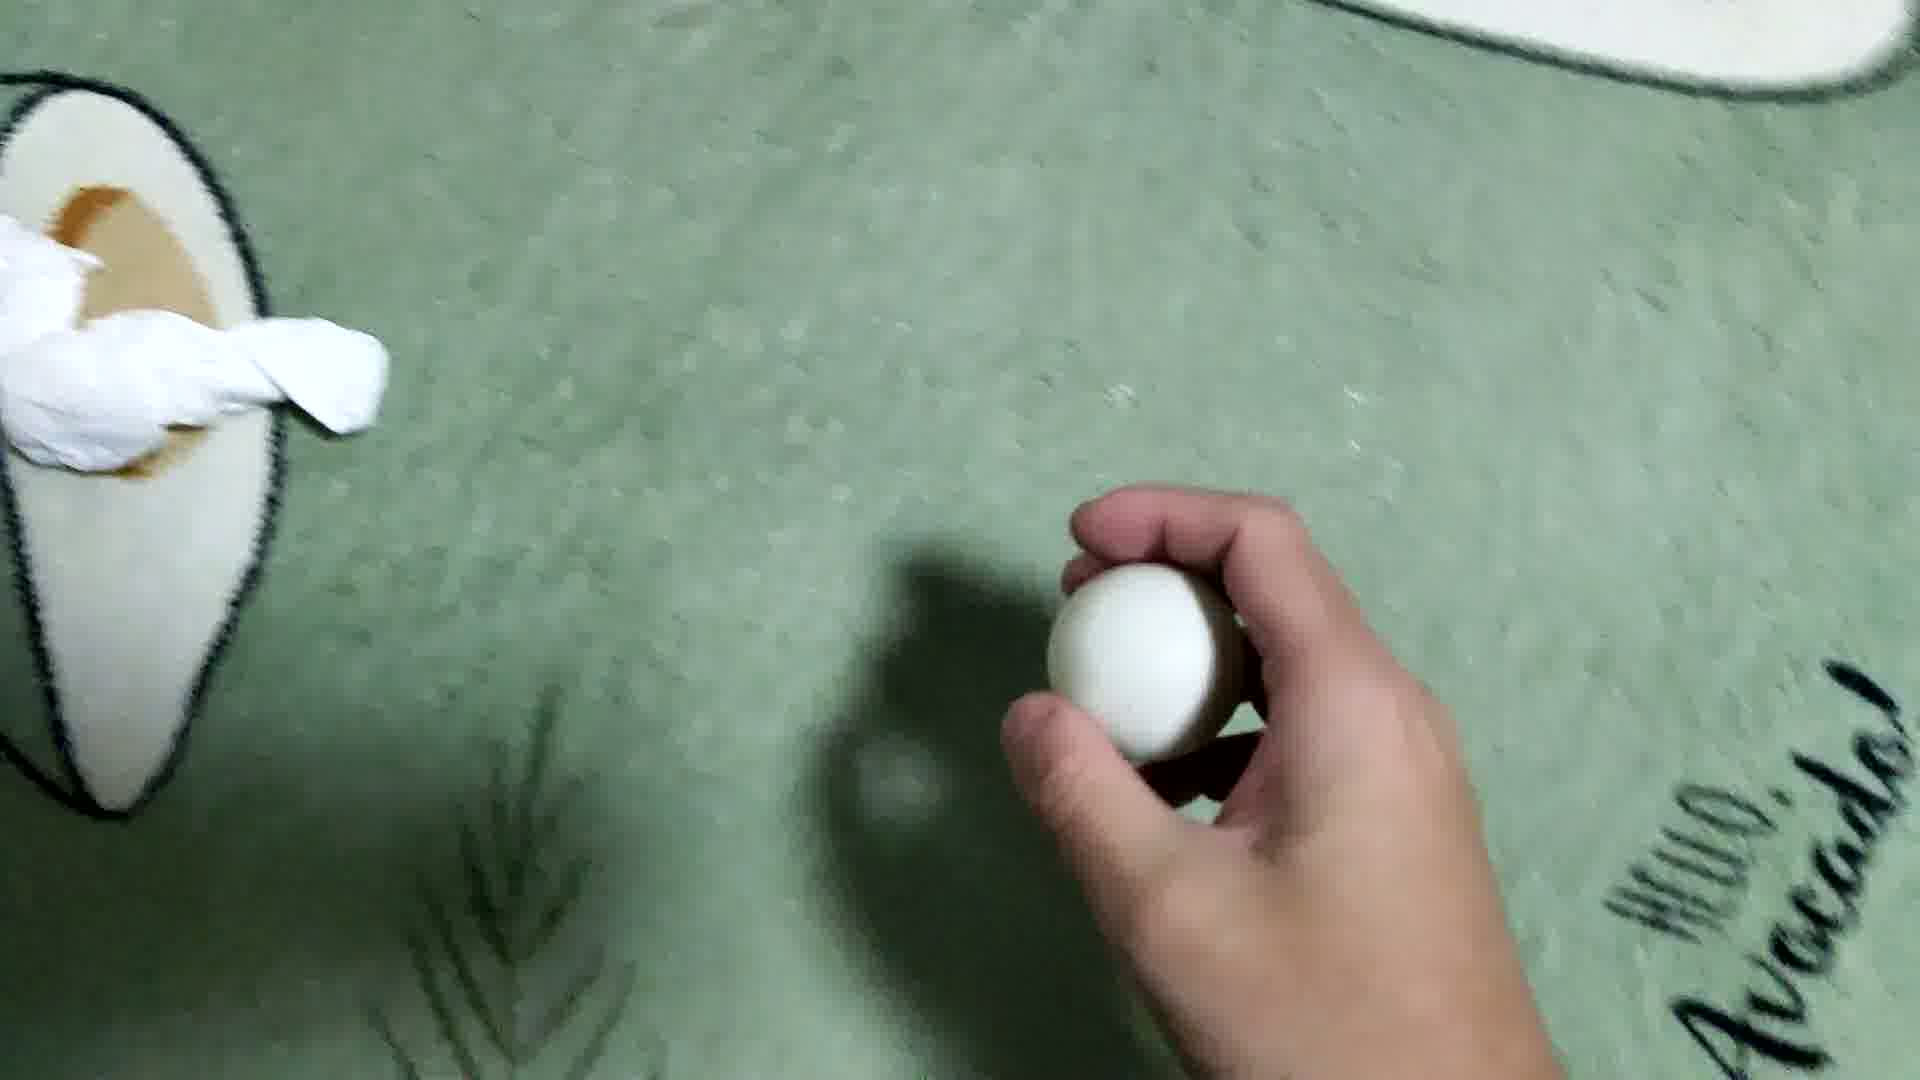Ball: (1046, 563, 1236, 758)
